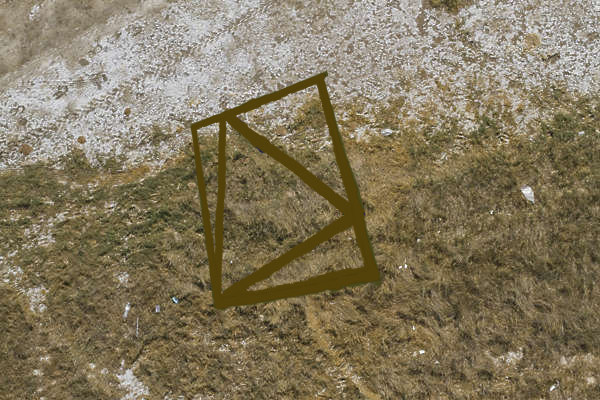marker: (187, 69, 384, 311)
